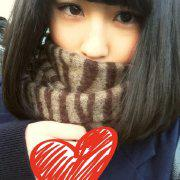WRONG: (46, 2, 150, 106)
